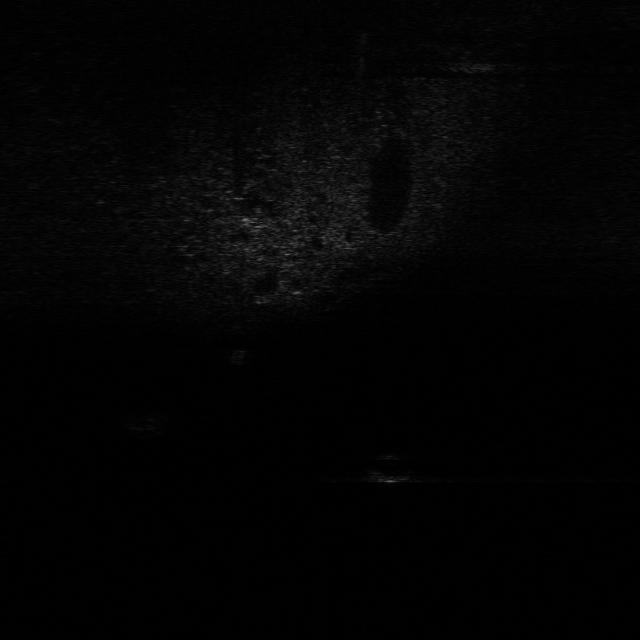ball: (363, 445, 413, 488)
circle cage: (124, 405, 170, 444)
cylinder: (233, 344, 251, 372)
